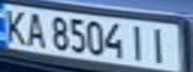0: (84, 19, 106, 57)
4: (103, 20, 127, 60)
5: (66, 16, 87, 54)
8: (45, 14, 69, 52)
A: (21, 10, 48, 47)
I: (145, 25, 175, 64), (124, 23, 151, 62)
K: (0, 6, 30, 45)
